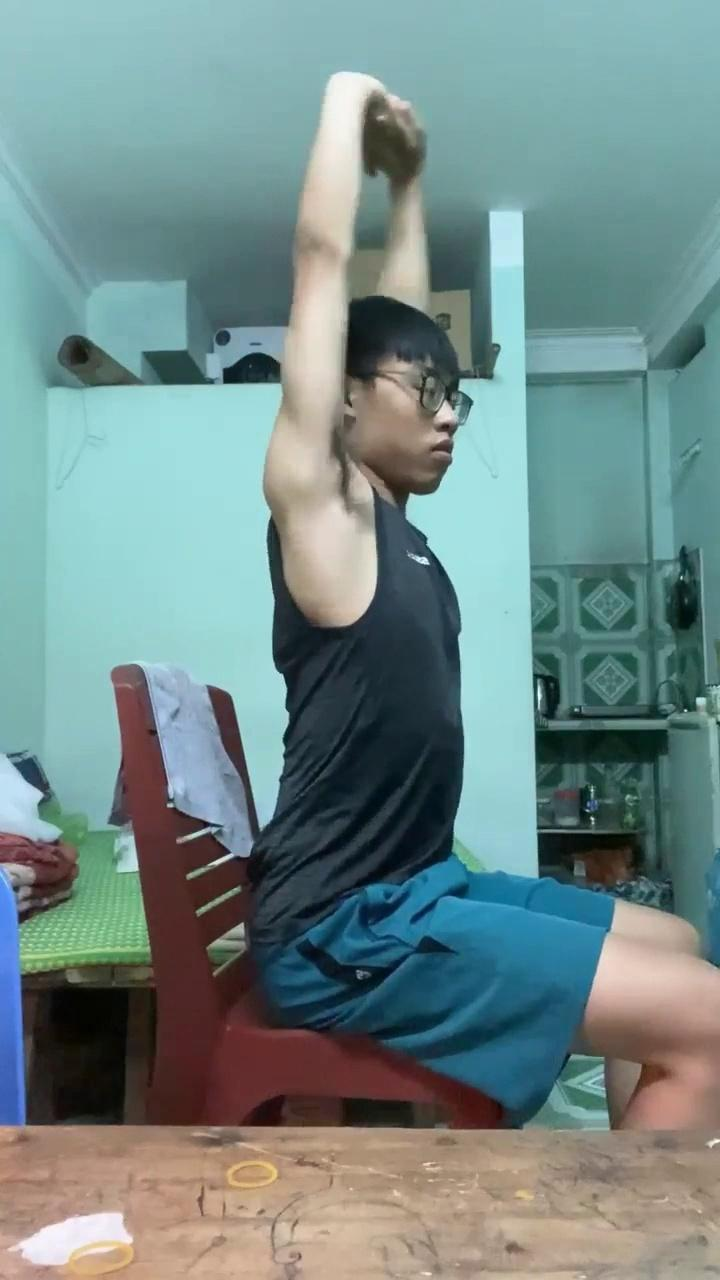GoodPosture: (248, 72, 719, 1130)
